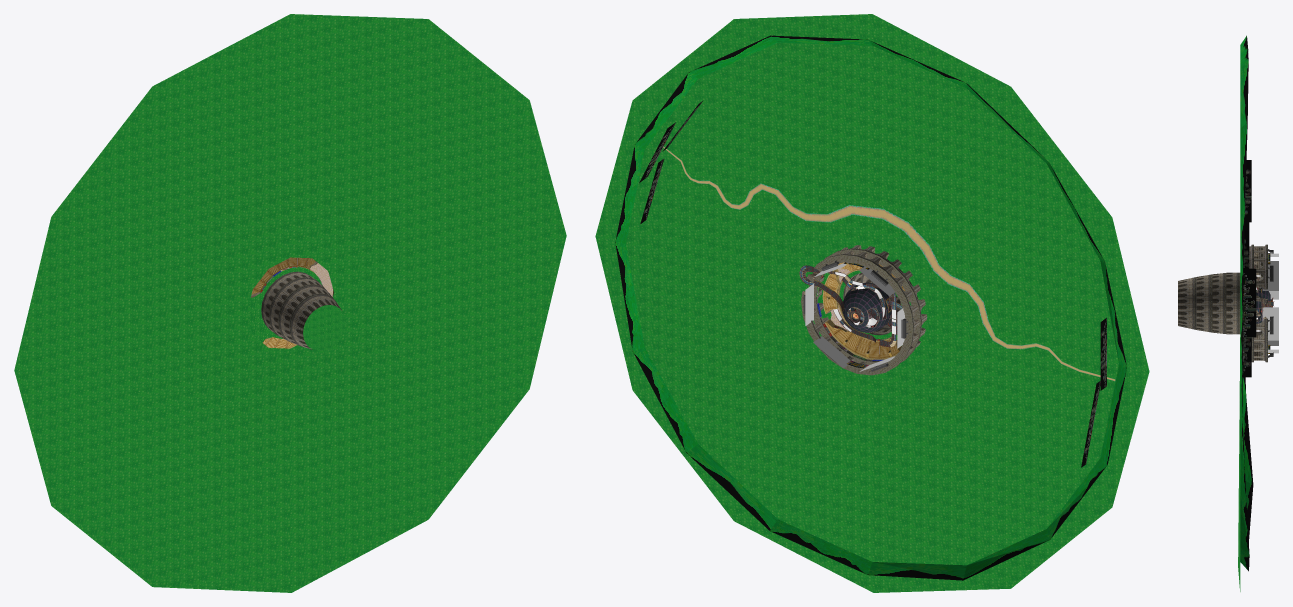
The picture shows the model from 3 angles, left to right: view 1: azimuth 30°, elevation 25°; view 2: azimuth 150°, elevation 25°; view 3: azimuth 270°, elevation 25°; orthographic projection. The views are drawn at different scales.
Parts seen in each view (by area): view 1: wa_kusa2_v001, wa_colosseumALL_v001, wa_IsekiBlock1_v001; view 2: wa_kusa2_v001, wa_Enkei_v001, wa_colosseumALL_v001, wa_IsekiBlock1_v001, wl_spot1_v_x001, wa_fence1_v001, wa_road1_v001; view 3: wa_Enkei_v001, wa_colosseumALL_v001, wl_spot1_v_x001, wa_kusa2_v001, wa_fence1_v001, wl_shomei1_v001.
Part boxes in pixels (bbox=[...]): wa_kusa2_v001: bbox=[14, 14, 566, 592]; wa_colosseumALL_v001: bbox=[251, 261, 341, 349]; wa_IsekiBlock1_v001: bbox=[251, 257, 333, 348]; wa_kusa2_v001: bbox=[595, 14, 1149, 592]; wa_Enkei_v001: bbox=[615, 35, 1126, 580]; wa_colosseumALL_v001: bbox=[801, 245, 927, 375]; wa_IsekiBlock1_v001: bbox=[822, 262, 909, 359]; wl_spot1_v_x001: bbox=[805, 263, 905, 371]; wa_fence1_v001: bbox=[842, 282, 891, 332]; wa_road1_v001: bbox=[806, 265, 897, 346]; wa_Enkei_v001: bbox=[1240, 35, 1256, 571]; wa_colosseumALL_v001: bbox=[1178, 244, 1267, 362]; wl_spot1_v_x001: bbox=[1262, 253, 1278, 353]; wa_kusa2_v001: bbox=[1238, 337, 1240, 591]; wa_fence1_v001: bbox=[1256, 288, 1271, 323]; wl_shomei1_v001: bbox=[1268, 249, 1273, 357].
Size of the model in its own units: 252835 by 252835 by 43800.
Materials: 15 (15 with a texture image).
